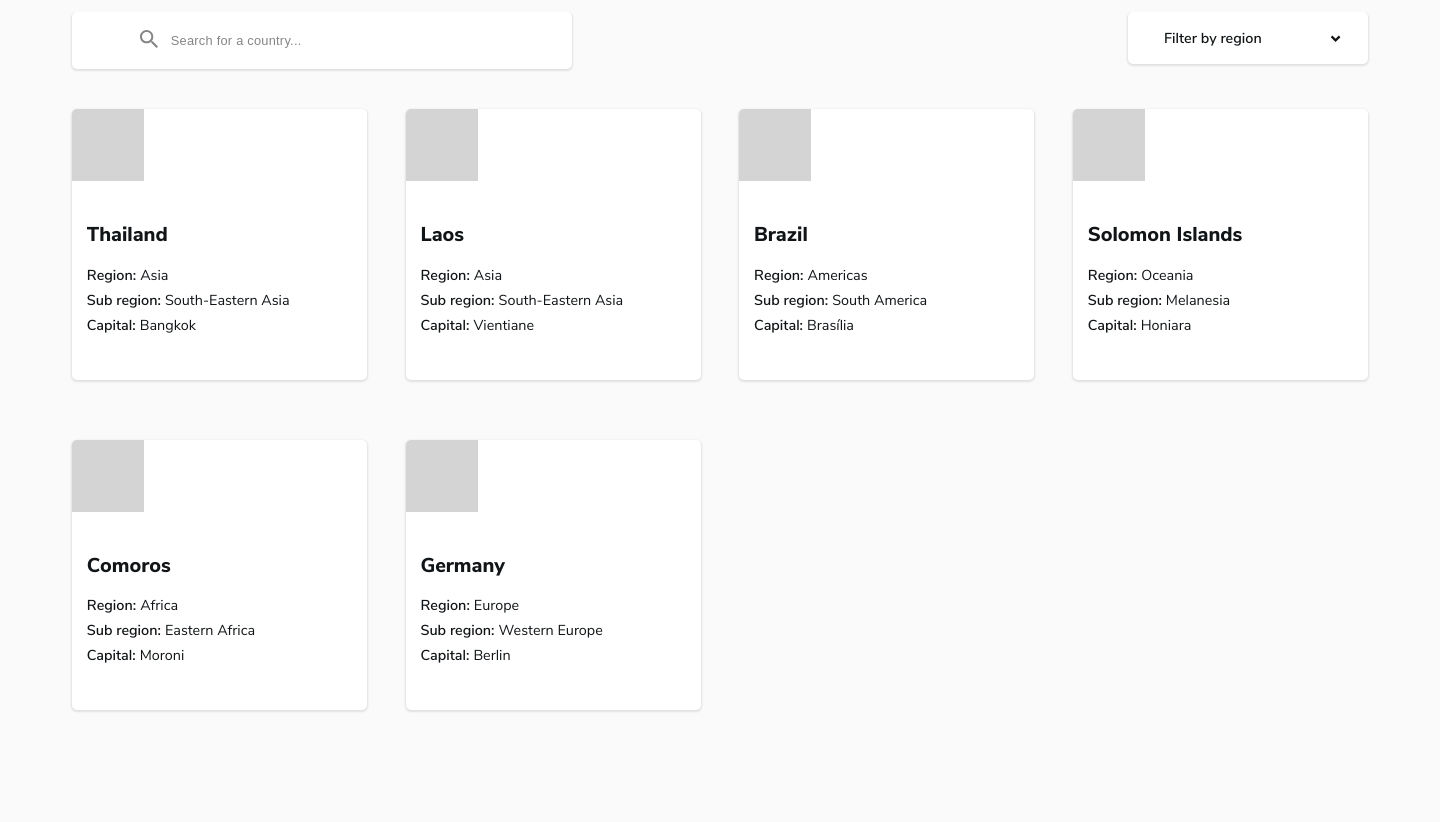
Test: When user performs a query without results › must display the following message: Sorry, your search did not match any country
The width and height of the screenshot is (1440, 822).
Type "this will not match any test country" into the search field at (326, 40), box [169, 32, 484, 49]
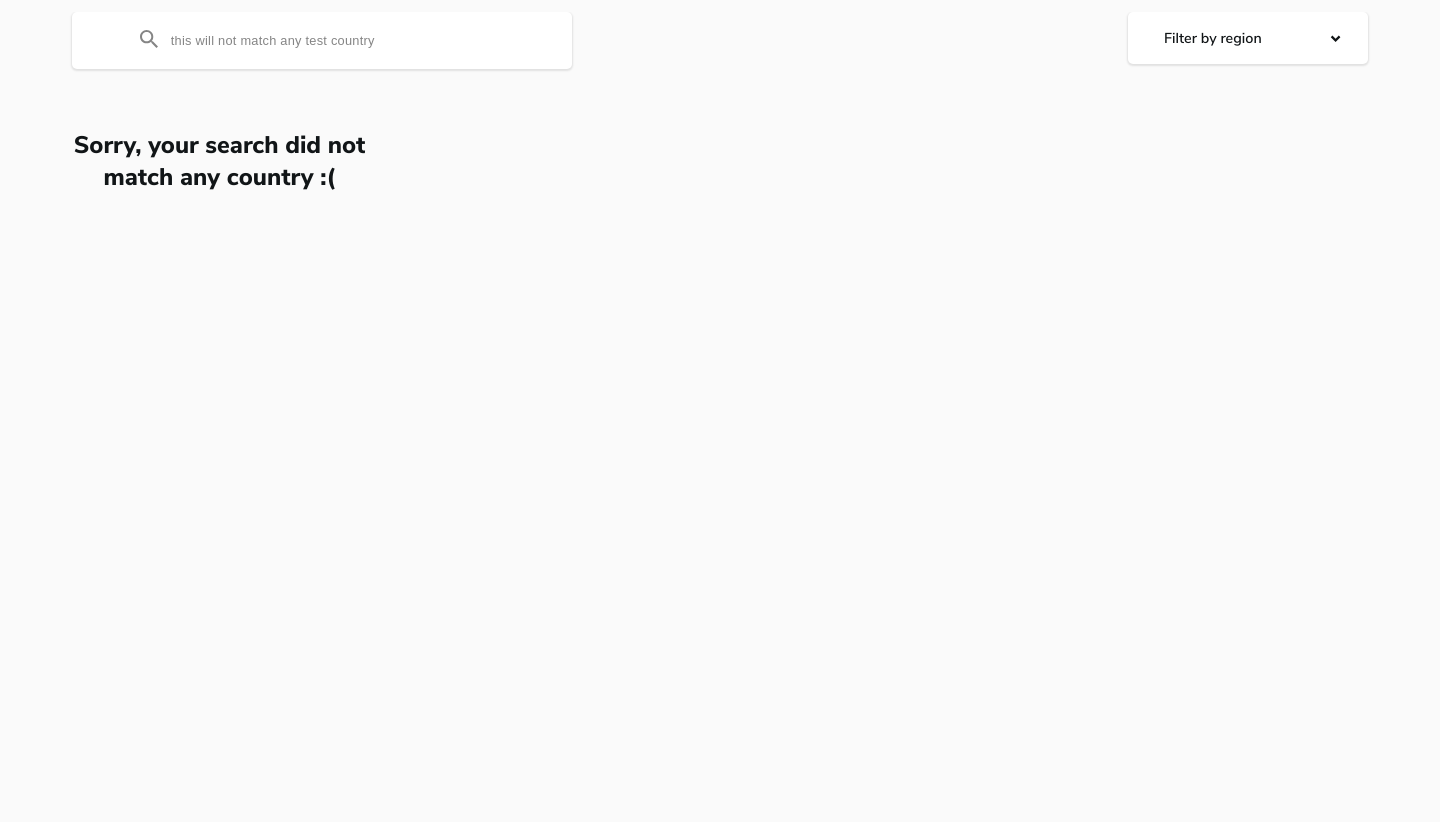
expect the heading "Sorry, your search did not match any country :(" is shown: met, box [72, 129, 367, 193]
